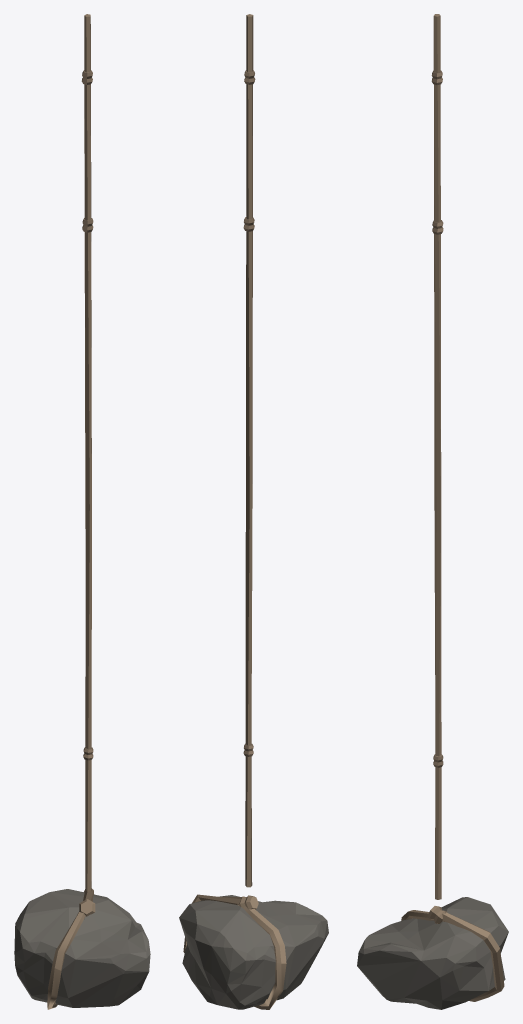
Rendered from bog_anchor.gltf.
3 renders of one model, left to right at view 1: azimuth 90°, elevation 25°; view 2: azimuth 150°, elevation 25°; view 3: azimuth 330°, elevation 25°, orthographic.
Visible parts, largest first — view 1: bog_anchor; view 2: bog_anchor; view 3: bog_anchor.
Boxes of the visible parts, box(x1,y1,x2,y2) form: bog_anchor: box(14, 14, 150, 1009); bog_anchor: box(179, 14, 328, 1009); bog_anchor: box(357, 14, 508, 1009).
Bounding box in the file's own units: 1.02 × 8.14 × 1.02.
Materials: 1 (1 with a texture image).
